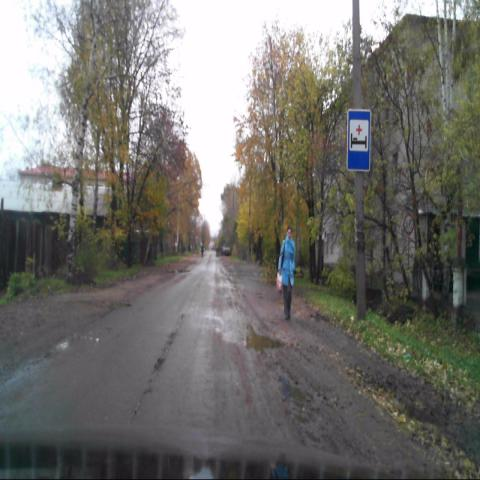7_2: (346, 109, 370, 173)
